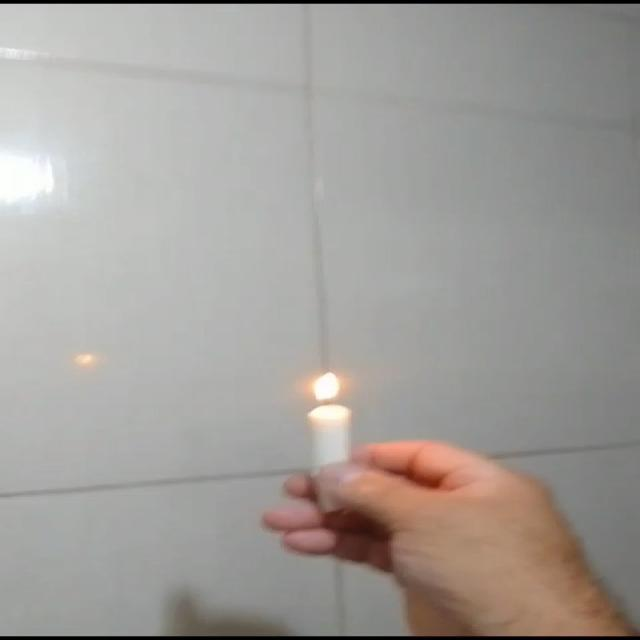fogo-ypXI: (304, 369, 346, 405)
